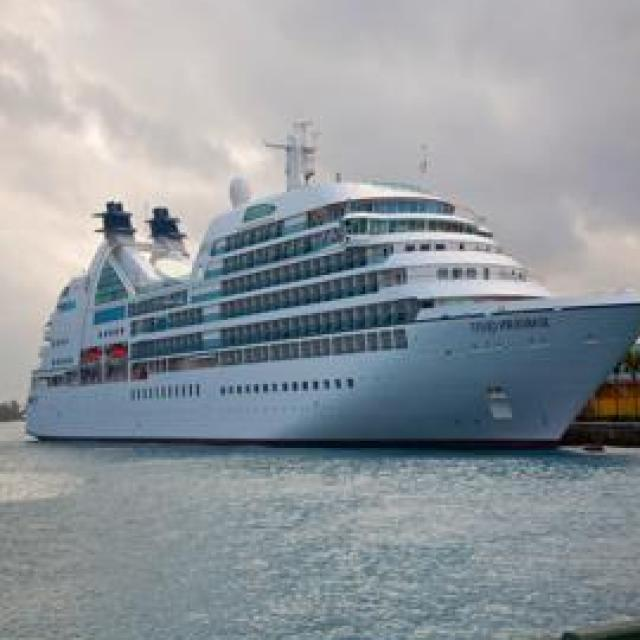passenger ship: (28, 128, 640, 446)
